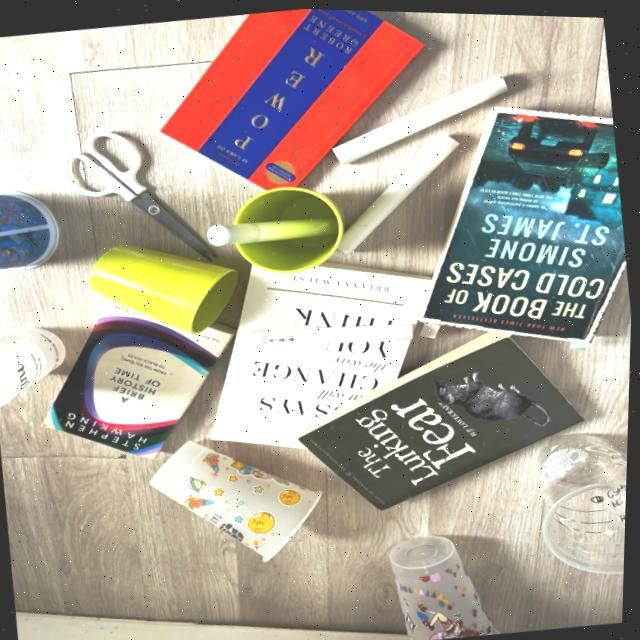Book: (299, 324, 583, 506), (420, 103, 627, 339), (160, 7, 422, 187), (211, 259, 433, 442), (44, 297, 234, 454), (59, 130, 217, 252)
HighLight Pen: (334, 71, 511, 163), (333, 131, 456, 250), (253, 319, 410, 347), (205, 217, 332, 240)
Plastic Cup: (148, 438, 322, 559), (387, 532, 499, 639), (543, 478, 629, 569), (536, 428, 630, 503), (0, 324, 69, 405)
WaterGlass: (90, 242, 236, 332), (211, 183, 346, 267)
